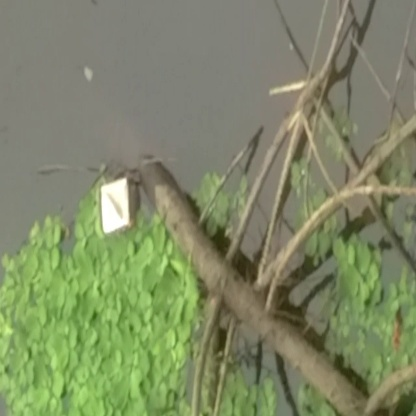milk-box: (92, 176, 138, 245)
